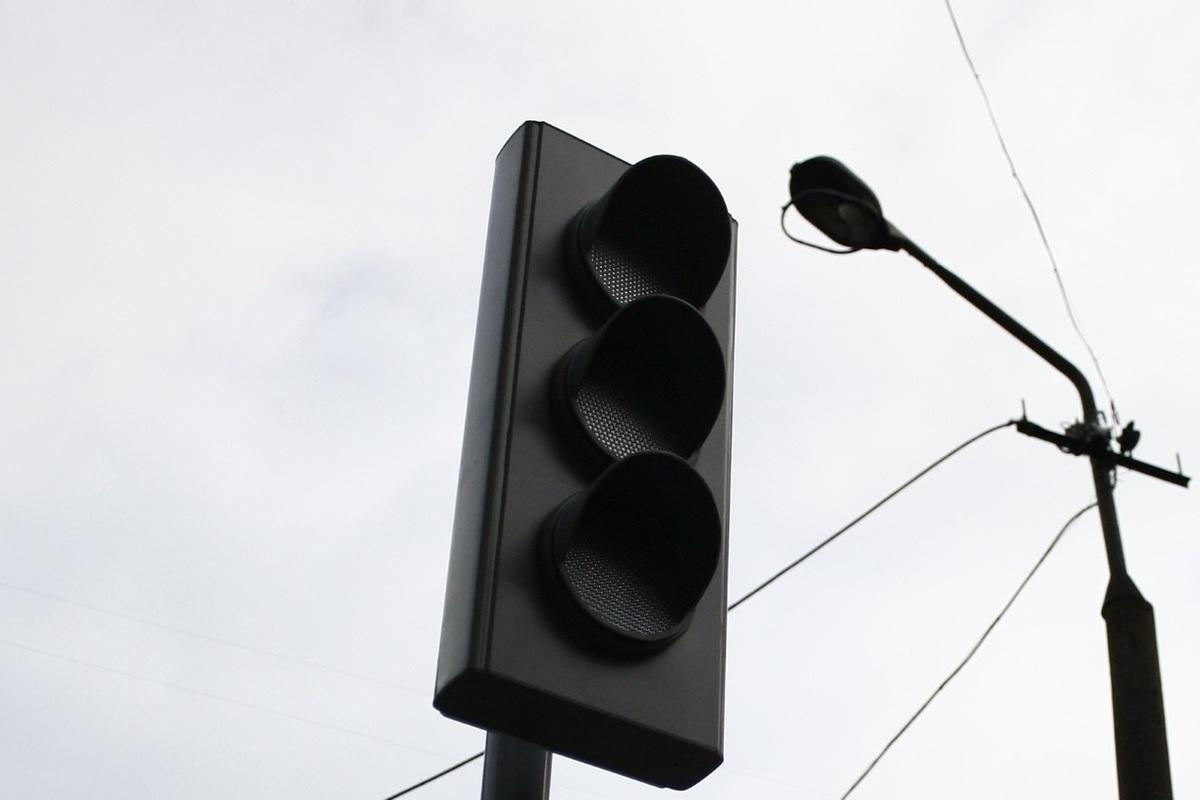off traffic light: (433, 123, 737, 789)
